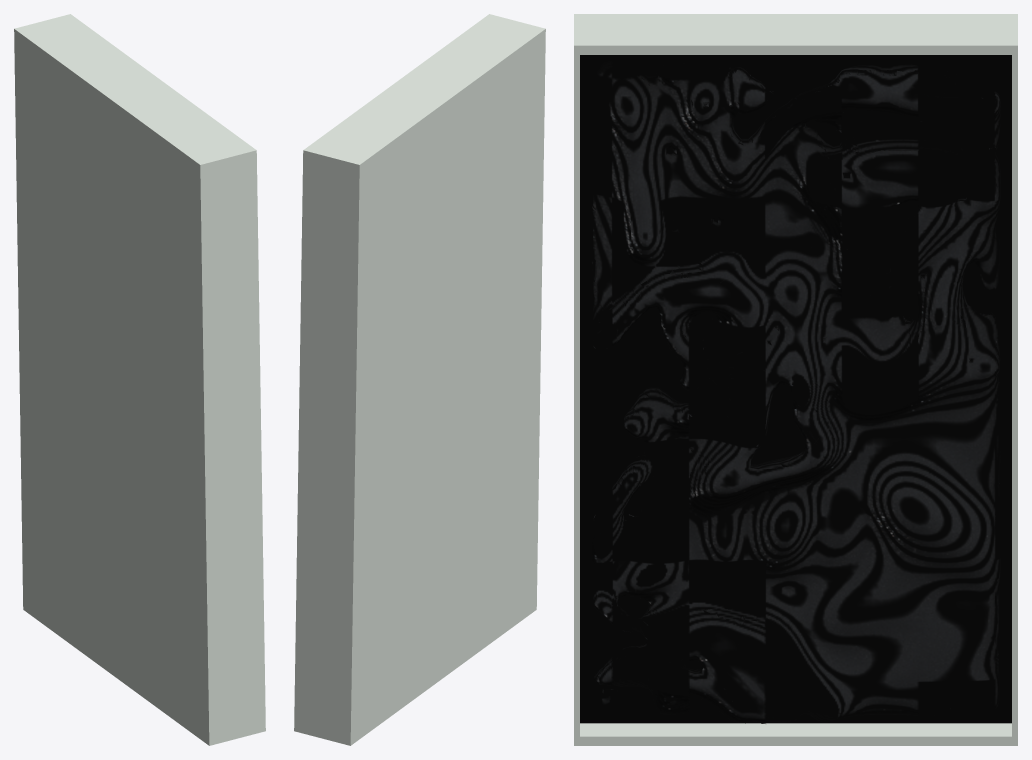
File: versuchA.glb
3 renders of one model, left to right at view 1: azimuth 30°, elevation 25°; view 2: azimuth 150°, elevation 25°; view 3: azimuth 270°, elevation 25°, orthographic. The views are drawn at different scales.
Visible parts, largest first — view 1: versuch2; view 2: versuch2; view 3: versuch2.
Part boxes in pixels (x1,y1,x2,y2): versuch2: [14, 14, 265, 745]; versuch2: [294, 14, 545, 745]; versuch2: [574, 14, 1017, 745].
Bounding box in the file's own units: 0.7729 × 5.82 × 3.36.
3 materials, 1 textured.
